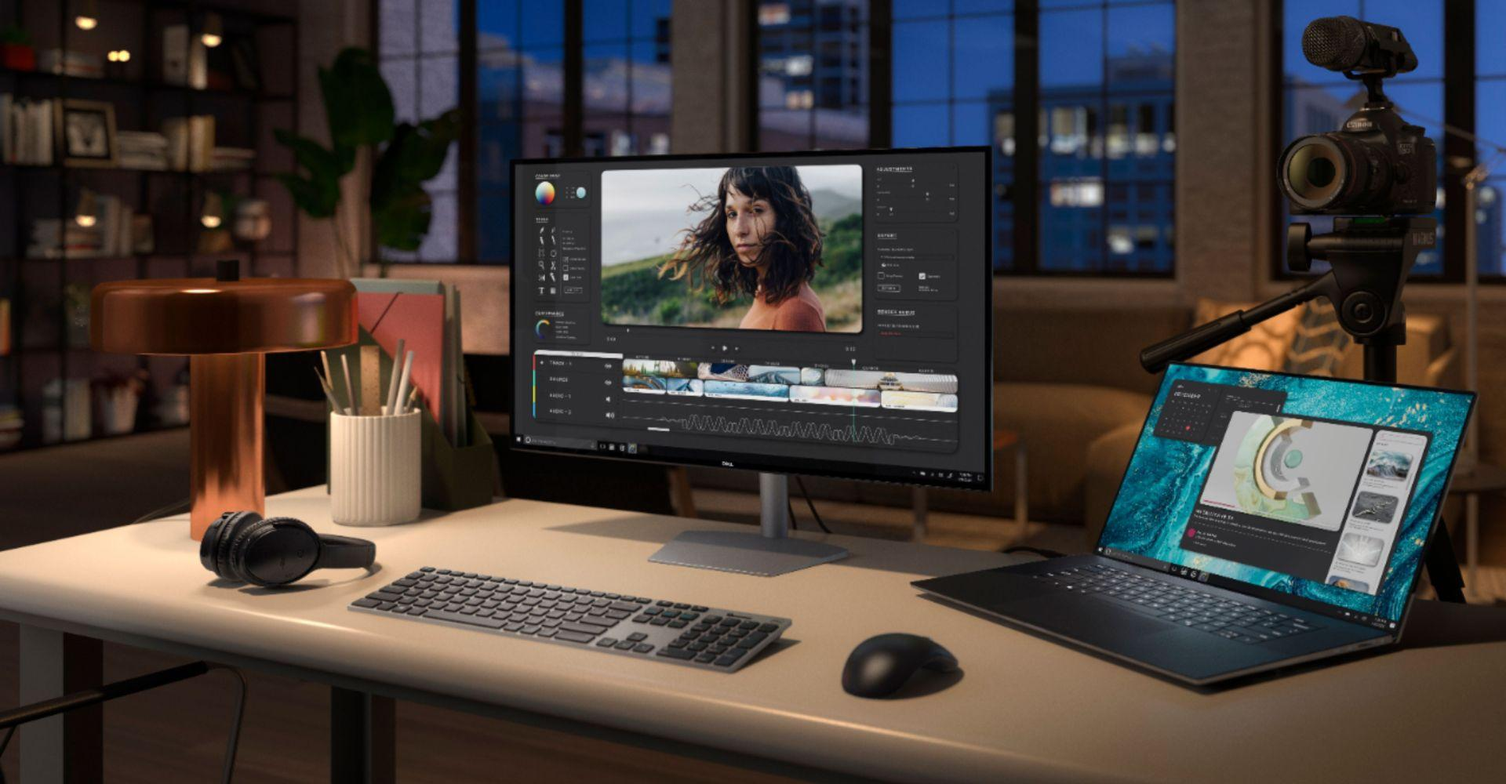keyboard: (333, 547, 807, 691)
monitor: (499, 131, 1016, 513)
mouse: (820, 612, 990, 739)
